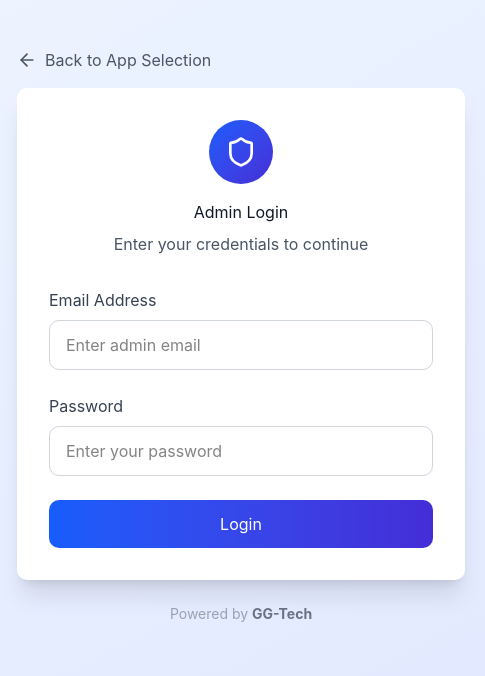
Scenario: AdminLoginScreen › email validation › rejects an email with no @ sign
In the field labelled "Email Address": [241, 345] box [49,320,433,370], type "adminarka.test"
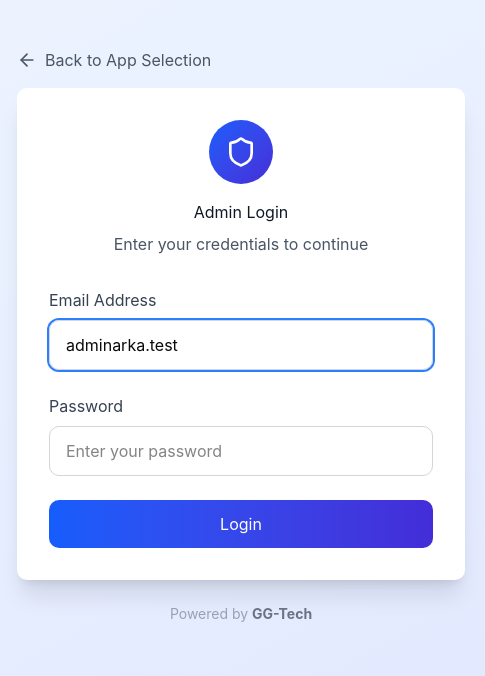
In the password field labelled "Password": [241, 451] box [49,426,433,476], type "correct-horse"
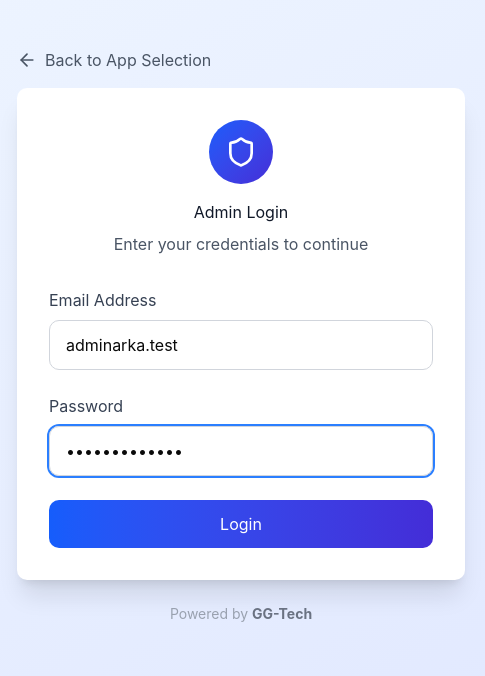
Click the button "Login": [241, 524] box [49,500,433,548]
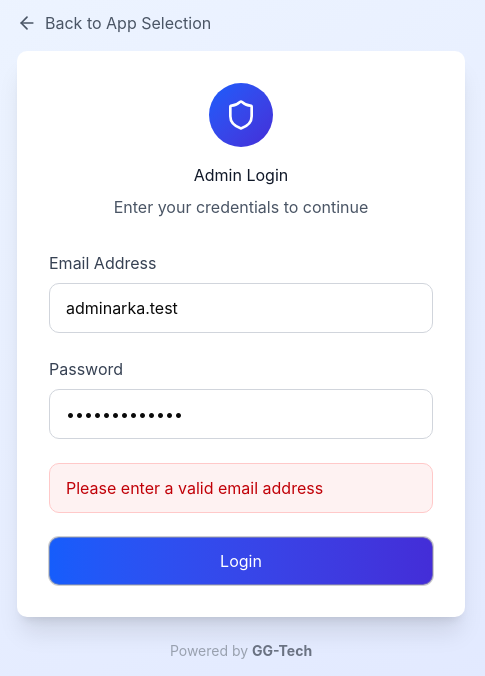
Now the text "Please enter a valid email address" is shown, box [49,463,433,513]
